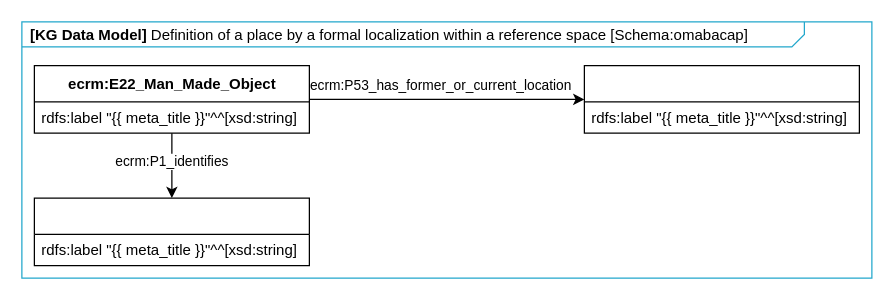
Some shapes in this 894 by 300 pixel diagram are drawn without their labels. The shapes that lost their labels are listed below. From the top down, each one's box as (x1, y1, x2, y2) in pixels, then its label:
(583, 64, 859, 133): ecrm:E53_Place
(33, 197, 309, 266): ecrm:E41_Appellation
